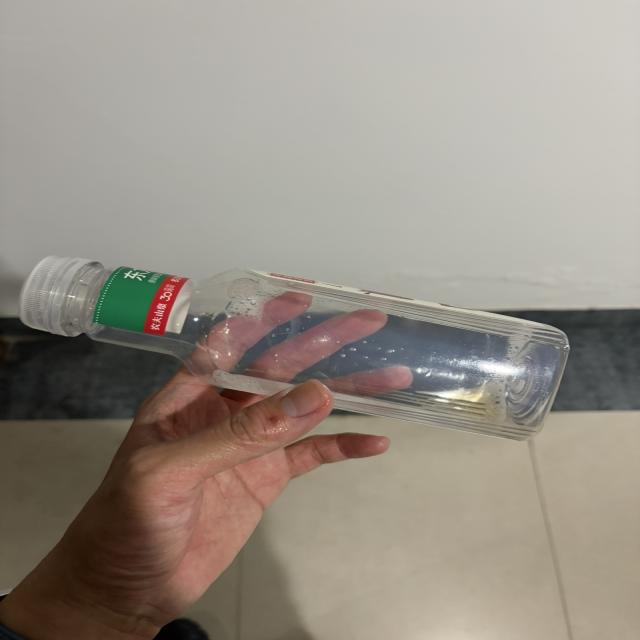empty: (20, 256, 568, 440)
